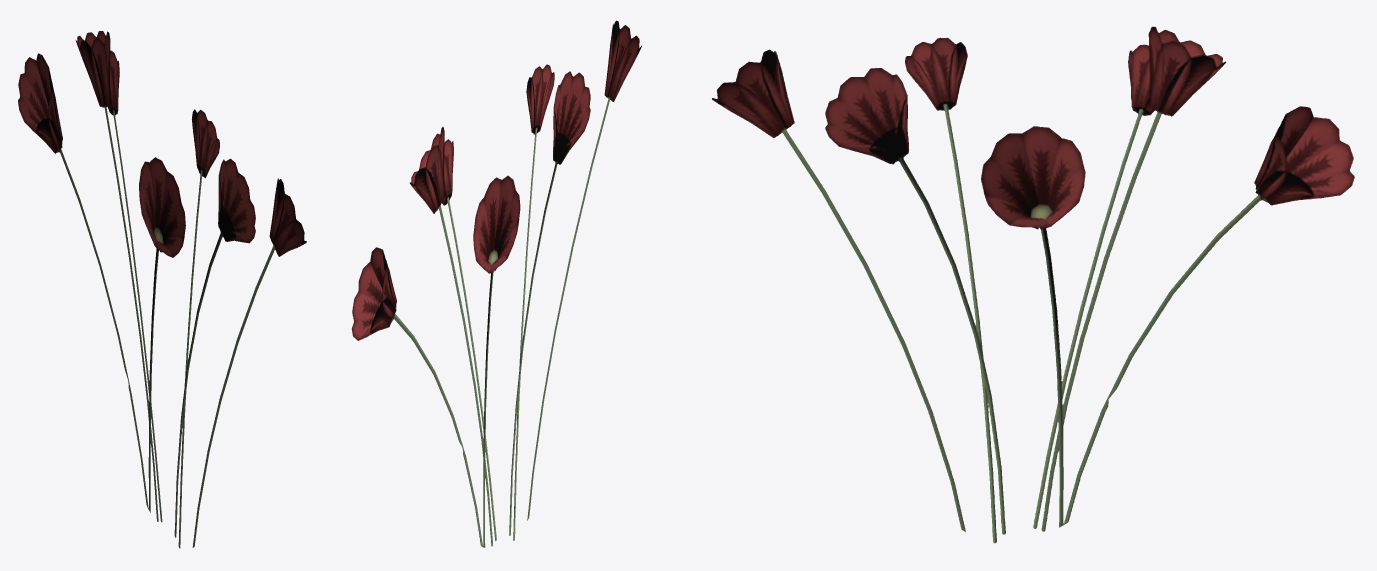
File: flor3.fbx
3 views of the same model, side by side, from view 1: azimuth 30°, elevation 25°; view 2: azimuth 150°, elevation 25°; view 3: azimuth 270°, elevation 25° (orthographic). The views are drawn at different scales.
Parts seen in each view (by area): view 1: flor3; view 2: flor3; view 3: flor3.
Part boxes in pixels (x1,y1,x2,y2): flor3: [18, 31, 306, 548]; flor3: [351, 20, 641, 547]; flor3: [712, 26, 1354, 543].
Size of the model in its own units: 2.6e-15 by 9.11 by 10.33.
